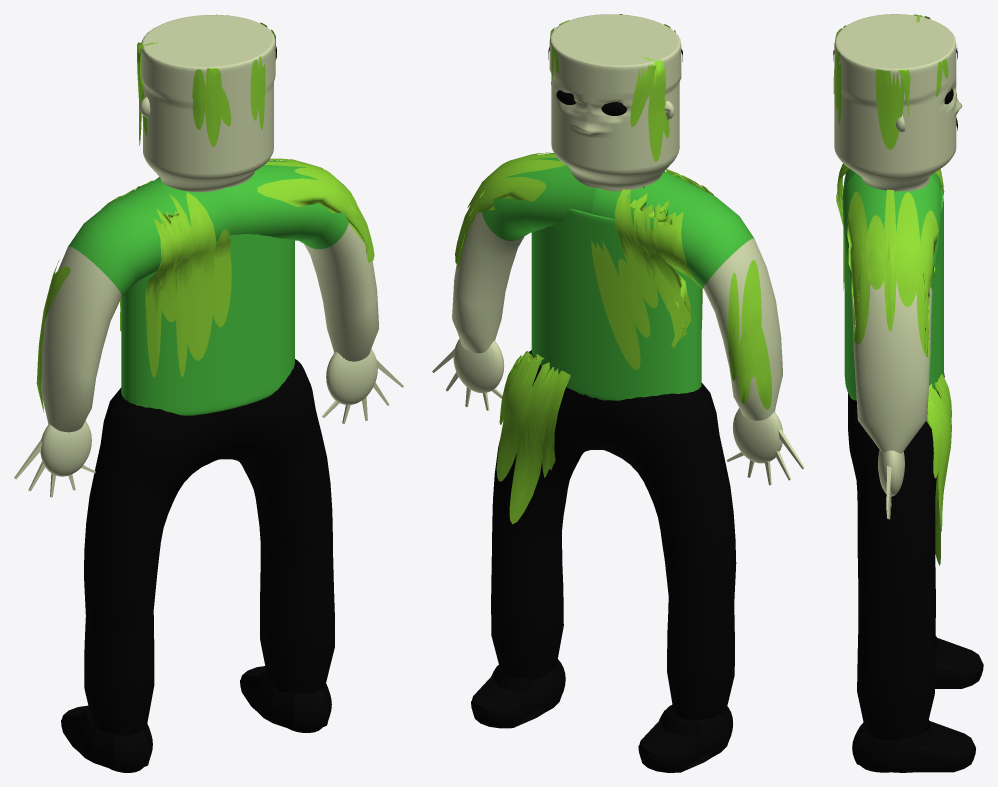
Rendered from drt5.fbx.
3 renders of one model, left to right at view 1: azimuth 30°, elevation 25°; view 2: azimuth 150°, elevation 25°; view 3: azimuth 270°, elevation 25°, orthographic. The views are drawn at different scales.
Parts seen in each view (by area): view 1: polySurface98, polySurface97, polySurface96, polySurface37, polySurface94, polySurface95, polySurface82, polySurface58, polySurface60, polySurface73, polySurface78, polySurface66 (+6 smaller); view 2: polySurface98, polySurface96, polySurface37, polySurface97, polySurface94, polySurface95, polySurface60, polySurface58, polySurface44, polySurface49, polySurface50, polySurface52 (+15 smaller); view 3: polySurface97, polySurface37, polySurface95, polySurface58, polySurface96, polySurface73, polySurface76, polySurface60, polySurface72, polySurface38, polySurface77, polySurface75 (+5 smaller).
Boxes of the visible parts, x1,y1,x2,y2 form: polySurface98: (84,387,240,735); polySurface97: (219,359,334,693); polySurface96: (121,234,294,415); polySurface37: (141,15,275,192); polySurface94: (41,177,234,432); polySurface95: (225,160,378,361); polySurface82: (181,192,216,360); polySurface58: (240,666,331,732); polySurface60: (61,705,152,772); polySurface73: (257,178,374,262); polySurface78: (156,209,193,322); polySurface66: (326,349,377,404); polySurface98: (583,382,736,720); polySurface96: (531,208,701,400); polySurface37: (549,14,681,191); polySurface97: (491,350,602,680); polySurface94: (591,171,782,420); polySurface95: (452,157,599,353); polySurface60: (638,704,733,772); polySurface58: (471,659,565,728); polySurface44: (509,362,558,524); polySurface49: (630,186,690,347); polySurface50: (591,240,640,369); polySurface52: (496,353,544,481); polySurface97: (848,390,940,740); polySurface37: (834,14,962,191); polySurface95: (842,173,941,453); polySurface58: (852,720,975,772); polySurface96: (844,186,943,400); polySurface73: (846,191,870,344); polySurface76: (895,192,920,307); polySurface60: (935,636,983,688); polySurface72: (916,210,938,357); polySurface38: (875,69,904,149); polySurface77: (884,189,896,331); polySurface75: (866,215,886,289).
Bounding box in the file's own units: 10.87 × 18.89 × 3.78.
